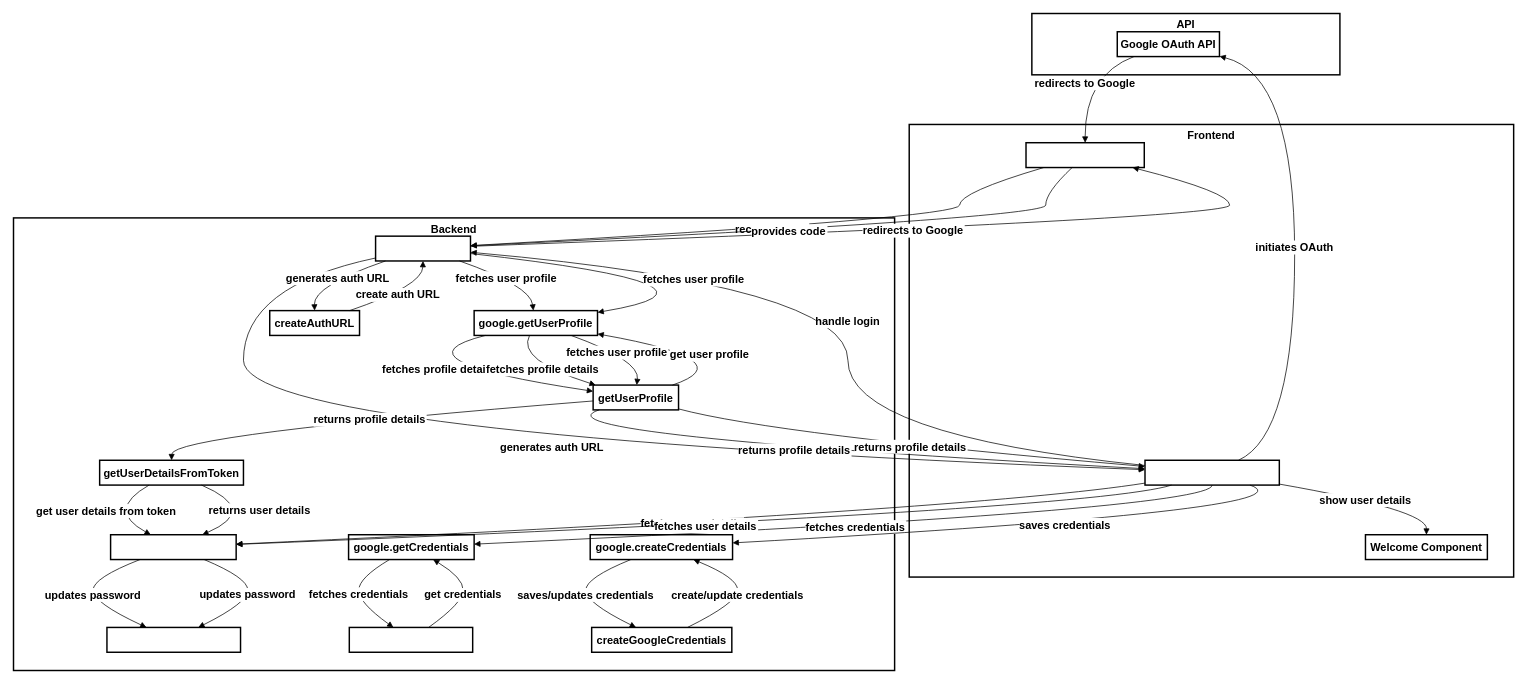
This 1526x683 diagram has some shape labels left out. The centre of each missing label's shape, as x and y in pixels:
"Callback Component" goes at point (1085, 155).
"getGoogleCredentials" goes at point (410, 639).
"google.getUserDetails" goes at point (173, 547).
"google.initLogin" goes at point (422, 248).
"google.updatePassword" goes at point (173, 639).
"GoogleAuth Component" goes at point (1212, 472).
